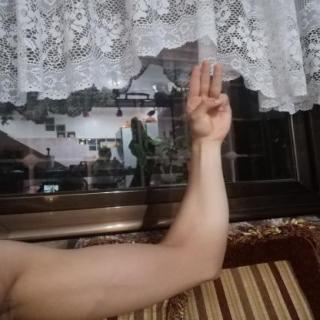THA: (175, 54, 237, 148)
